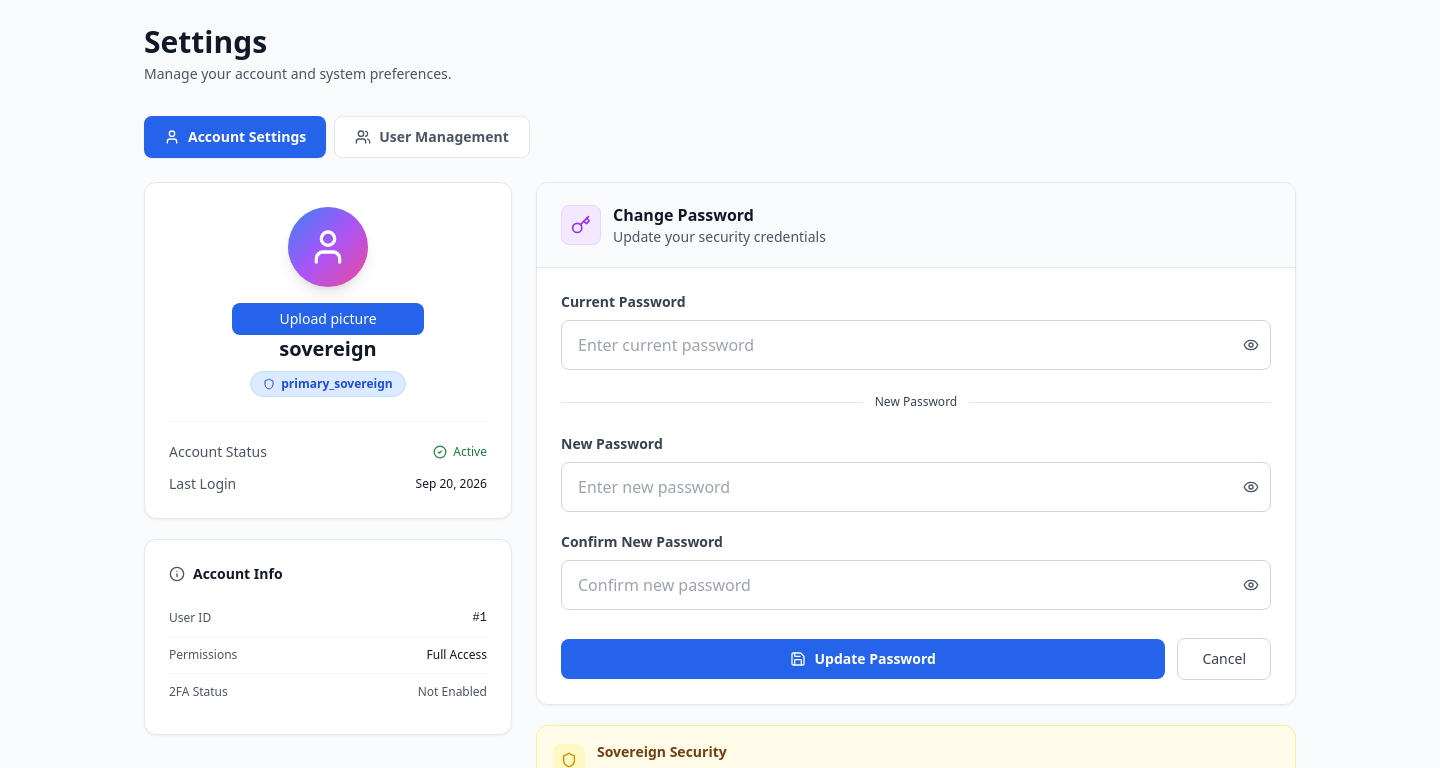
Scenario: 12.3.2 — User preferences save and persist (password change) › shows validation error when passwords do not match
Type "OldPass123!" into the password field labelled "Current Password".
click(916, 345); type("OldPass123!")  # box [561, 320, 1271, 370]
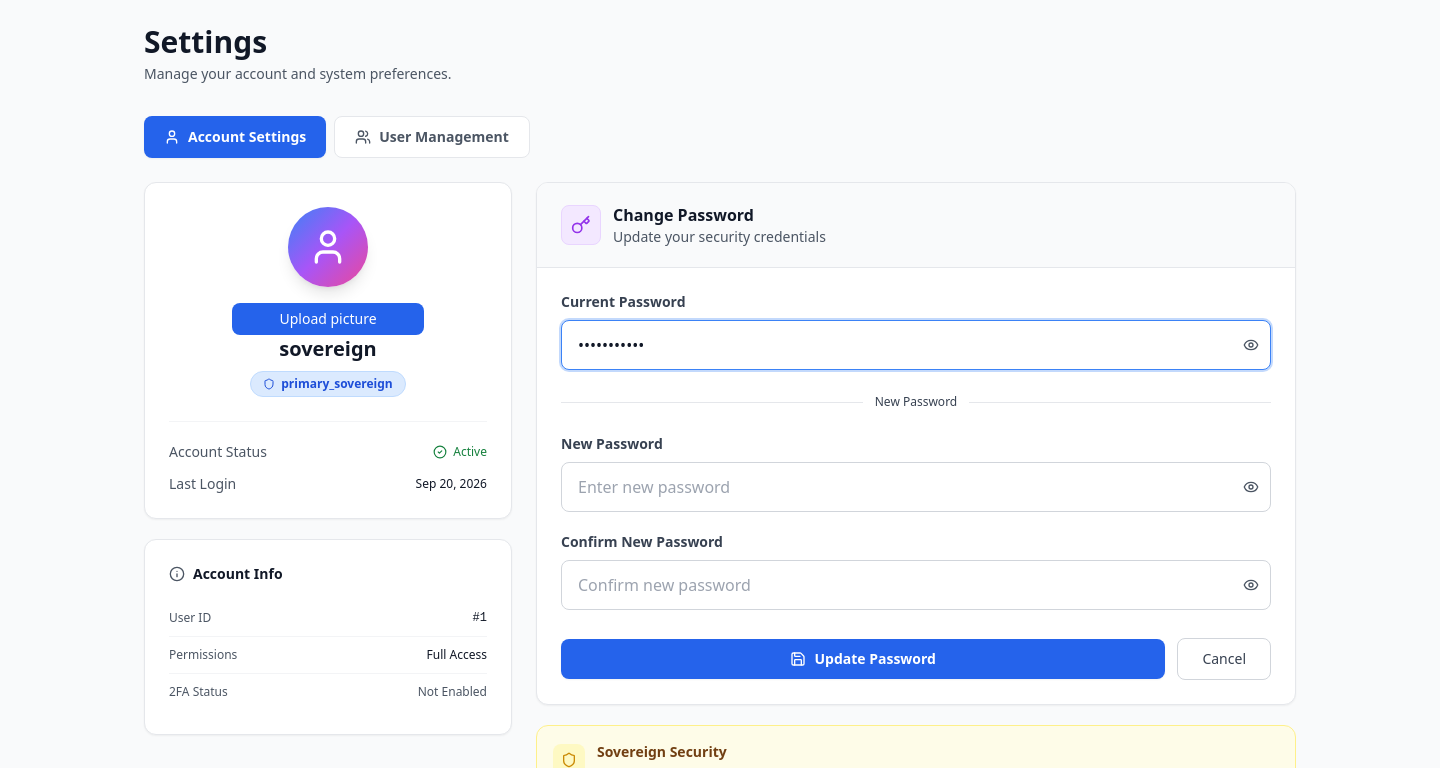
Type "NewPass456!" into the password field labelled "New Password".
click(916, 487); type("NewPass456!")  # box [561, 462, 1271, 512]
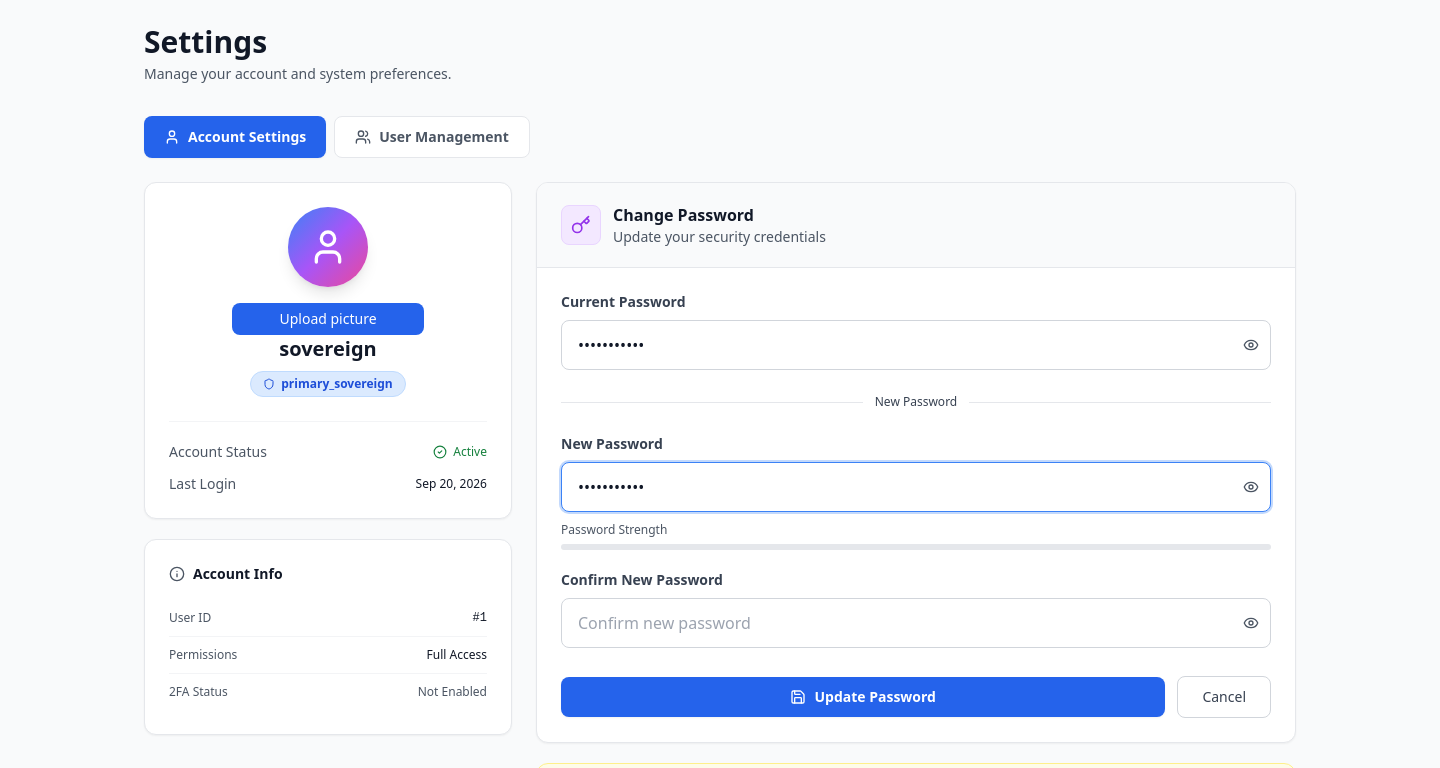
Type "Mismatch!" into the password field labelled "Confirm New Password".
click(916, 623); type("Mismatch!")  # box [561, 598, 1271, 648]
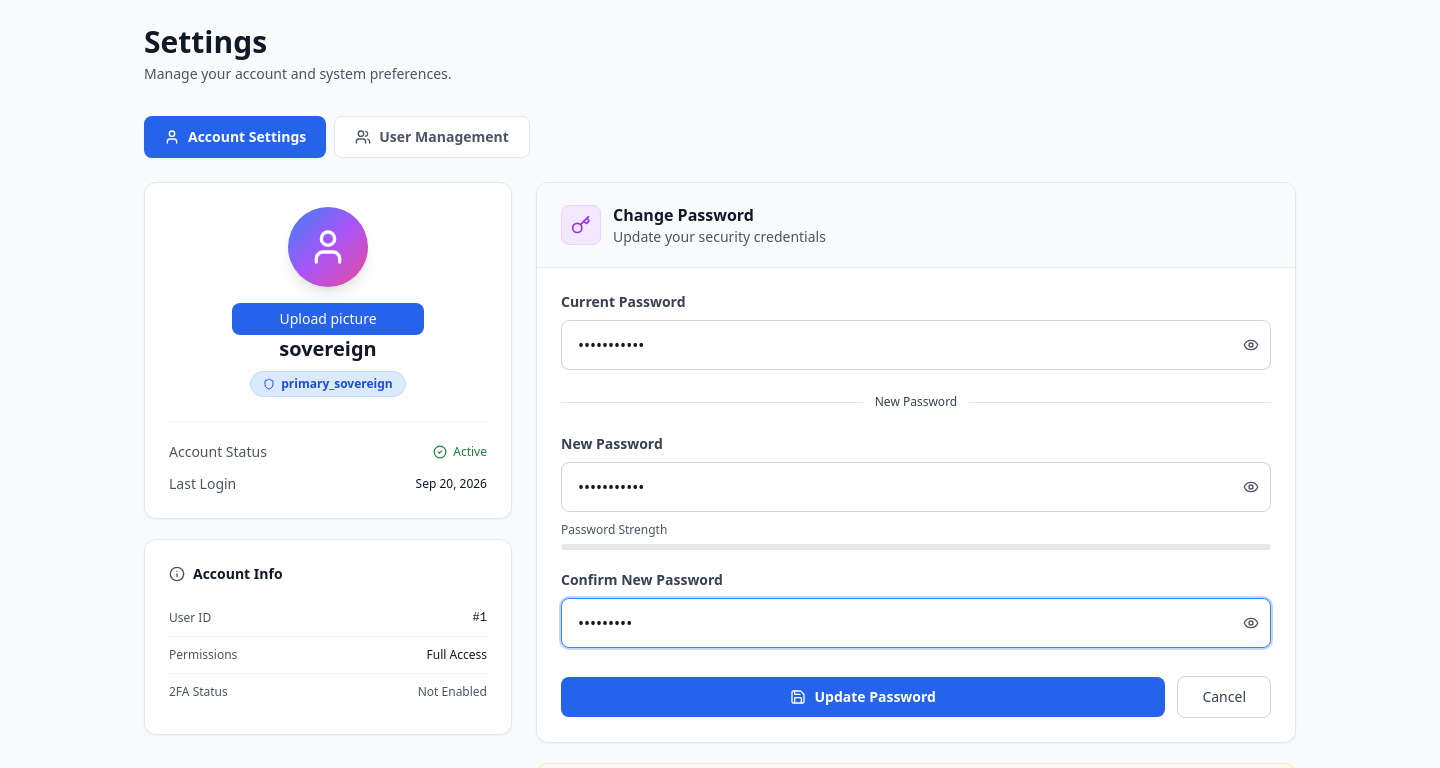
Click the button "Update Password".
click(863, 697)  # box [561, 677, 1165, 717]
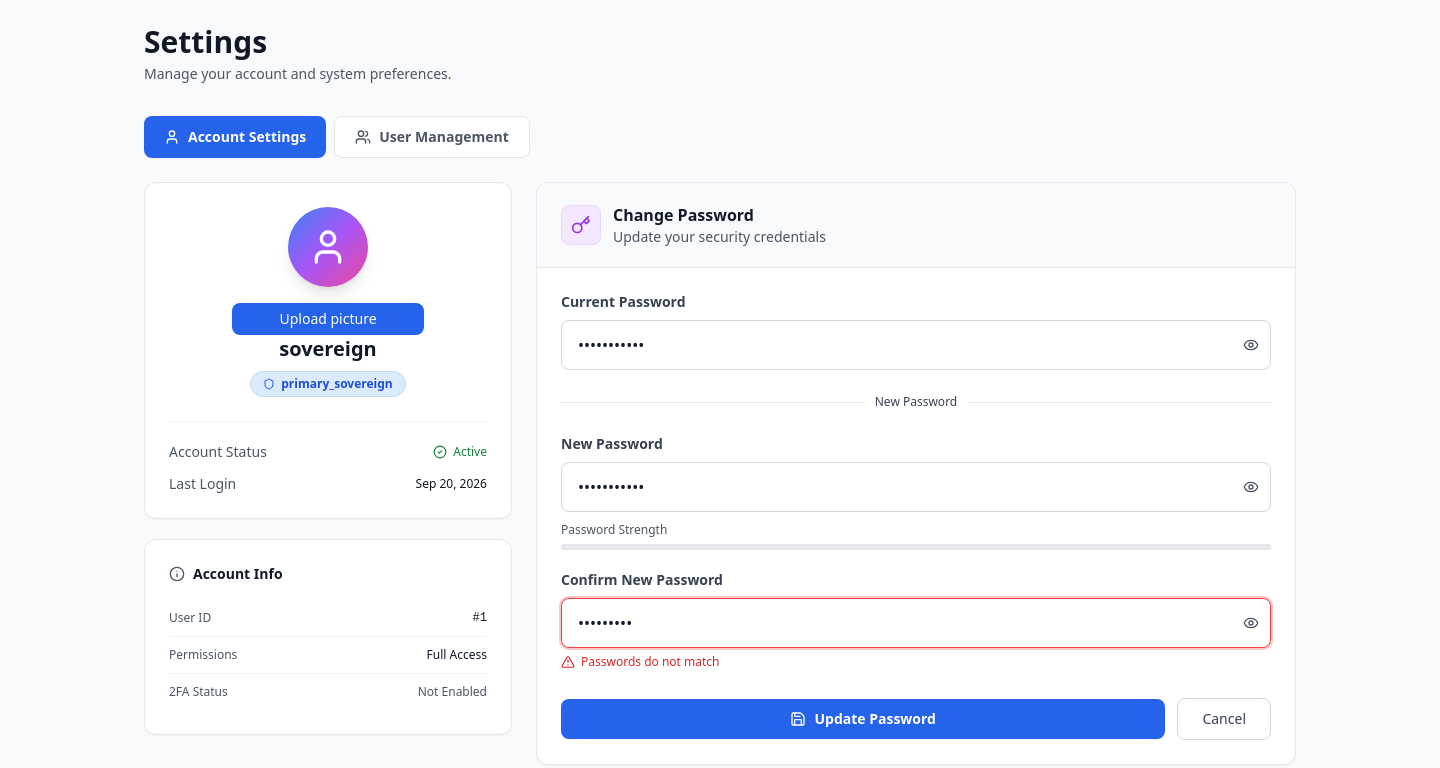
Check: the text "Passwords do not match" is shown, box [561, 653, 720, 670]
